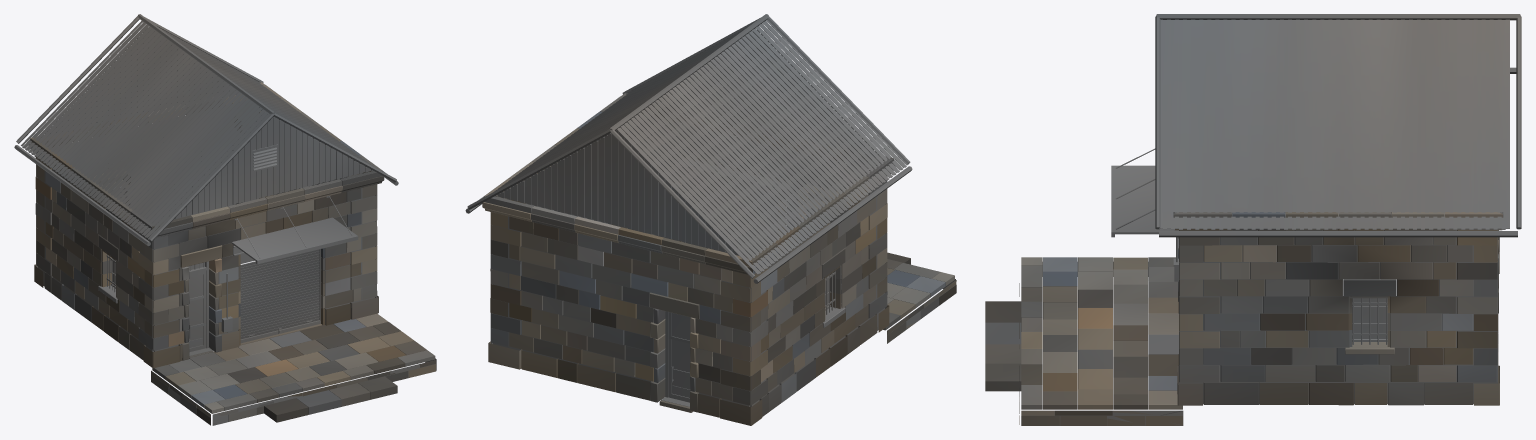
File: FieldSupply_LOD1.glb
3 renders of one model, left to right at view 1: azimuth 30°, elevation 25°; view 2: azimuth 150°, elevation 25°; view 3: azimuth 270°, elevation 25°, orthographic. The views are drawn at different scales.
Parts seen in each view (by area): view 1: FieldSupply_Masonry_LOD1, FieldSupply_Roof_LOD1, FieldSupply_Metal_LOD1, FieldSupply_Porch_LOD1, FieldSupply_Trim_LOD1; view 2: FieldSupply_Masonry_LOD1, FieldSupply_Roof_LOD1, FieldSupply_Metal_LOD1, FieldSupply_Trim_LOD1, FieldSupply_Porch_LOD1; view 3: FieldSupply_Roof_LOD1, FieldSupply_Masonry_LOD1, FieldSupply_Porch_LOD1, FieldSupply_Metal_LOD1, FieldSupply_Trim_LOD1, FieldSupply_Glass_LOD1.
Boxes of the visible parts, left/top/right/bottom form: FieldSupply_Masonry_LOD1: left=34, top=100, right=378, bottom=368; FieldSupply_Roof_LOD1: left=21, top=20, right=373, bottom=240; FieldSupply_Metal_LOD1: left=14, top=14, right=398, bottom=355; FieldSupply_Porch_LOD1: left=151, top=313, right=436, bottom=425; FieldSupply_Trim_LOD1: left=29, top=82, right=384, bottom=360; FieldSupply_Masonry_LOD1: left=488, top=114, right=889, bottom=425; FieldSupply_Roof_LOD1: left=483, top=19, right=908, bottom=274; FieldSupply_Metal_LOD1: left=465, top=14, right=912, bottom=406; FieldSupply_Trim_LOD1: left=482, top=93, right=895, bottom=412; FieldSupply_Porch_LOD1: left=659, top=252, right=956, bottom=412; FieldSupply_Roof_LOD1: left=1159, top=19, right=1509, bottom=229; FieldSupply_Masonry_LOD1: left=1177, top=229, right=1499, bottom=405; FieldSupply_Porch_LOD1: left=985, top=257, right=1183, bottom=425; FieldSupply_Metal_LOD1: left=1111, top=14, right=1521, bottom=344; FieldSupply_Trim_LOD1: left=1173, top=212, right=1503, bottom=354; FieldSupply_Glass_LOD1: left=1352, top=298, right=1387, bottom=338.
Bounding box in the file's own units: 8.74 × 8.26 × 11.92.
